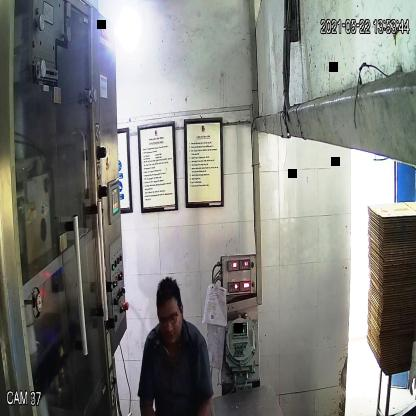goggles: (155, 304, 185, 332)
